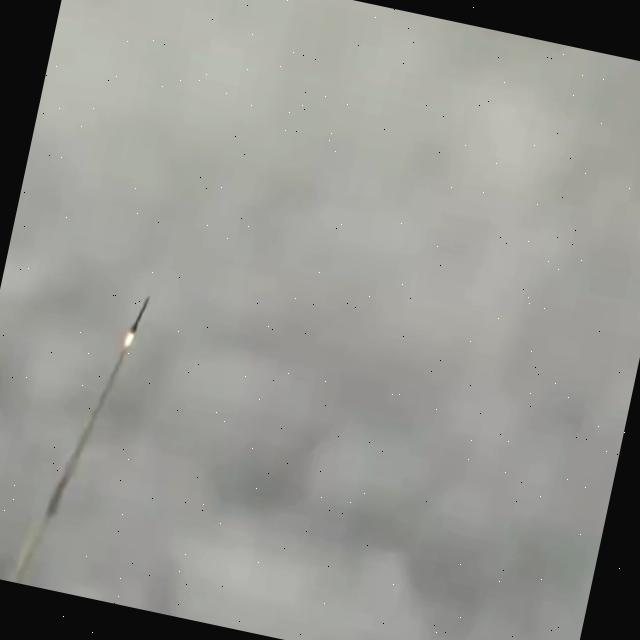smoke_trail_with_rocket: (6, 297, 148, 583)
